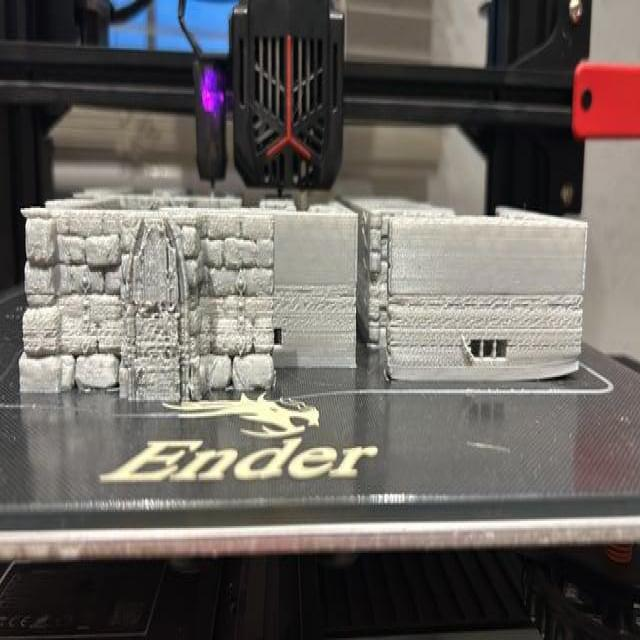Warping: (530, 361, 586, 386)
